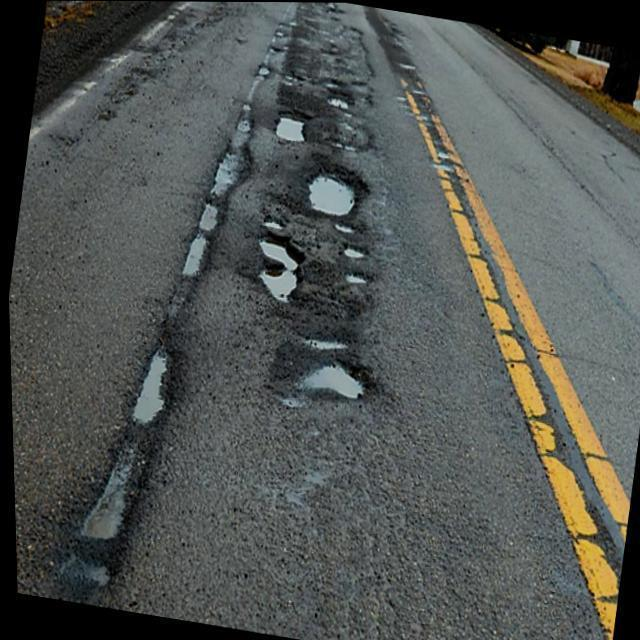Pothole: (72, 432, 150, 541), (292, 329, 372, 402), (254, 210, 312, 304), (128, 339, 178, 428), (300, 162, 368, 221), (181, 197, 226, 285), (210, 142, 255, 192), (273, 109, 313, 148), (232, 94, 255, 138), (335, 242, 370, 264), (342, 271, 373, 293), (332, 137, 363, 156), (330, 222, 362, 239), (324, 96, 355, 112), (254, 55, 271, 82)
